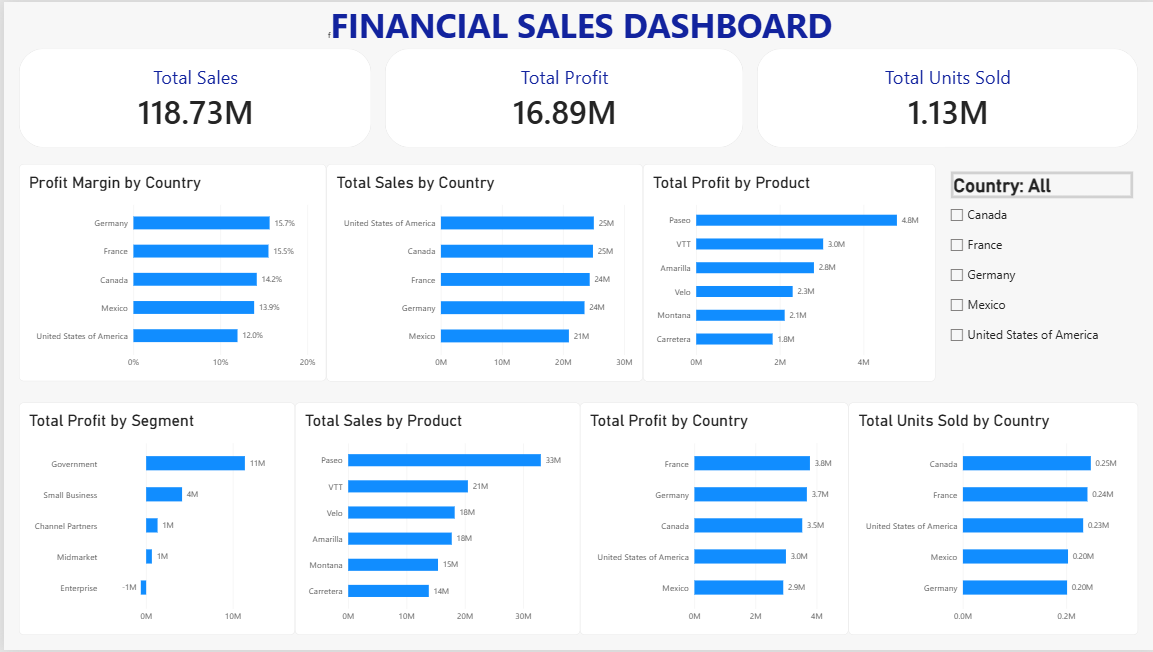

The page's visual inventory and layout, read from the dashboard file:
{"tool":"powerbi","page":{"name":"Page 1","canvas":[1920,1080],"ordinal":0},"visuals":[{"type":"clusteredBarChart","title":"Total Sales by Product","fields":{"Category":["financials.Product"],"Y":["Sum(financials.Sales)"]},"box":[485,667.5,475,387.5],"z":0},{"type":"slicer","fields":{"Values":["financials.Country"]},"box":[1570,282.5,320,337.5],"z":1000},{"type":"cardVisual","fields":{"Data":["financials.Total Profit"]},"box":[635,77.5,597.5,165],"z":2000},{"type":"cardVisual","fields":{"Data":["financials.Total Sales"]},"box":[25,77.5,587.5,165],"z":3000},{"type":"cardVisual","fields":{"Data":["financials.Total Units Sold"]},"box":[1255,77.5,635,165],"z":4000},{"type":"textbox","box":[0,0,1920,76.7],"z":5000},{"type":"clusteredBarChart","title":"Total Sales by Country","fields":{"Category":["financials.Country"],"Y":["financials.Total Sales"]},"box":[537.5,270,527.5,362.5],"z":6000},{"type":"clusteredBarChart","fields":{"Category":["financials.Segment"],"Y":["financials.Total Profit"]},"box":[25,667.5,460,387.5],"z":7000},{"type":"clusteredBarChart","fields":{"Category":["financials.Product"],"Y":["financials.Total Profit"]},"box":[1065,270,487.5,362.5],"z":8000},{"type":"clusteredBarChart","fields":{"Category":["financials.Country"],"Y":["financials.Total Profit"]},"box":[960,667.5,447.5,387.5],"z":9000},{"type":"clusteredBarChart","fields":{"Category":["financials.Country"],"Y":["financials.Total Units Sold"]},"box":[1407.5,667.5,482.5,387.5],"z":10000},{"type":"clusteredBarChart","title":"Profit Margin by Country","fields":{"Category":["financials.Country"],"Y":["financials.Profit Margin %"]},"box":[25,270,512,362],"z":11000}]}

Visuals, with their boxes in screenshot pixels (x1, y1, x2, y2), scaled from the page's 1920x1080 canvas onto the 1153x652 screenshot:
"Total Sales by Product" clusteredBarChart: locate(291, 403, 576, 637)
slicer - financials.Country: locate(943, 171, 1135, 374)
cardVisual - financials.Total Profit: locate(381, 47, 740, 146)
cardVisual - financials.Total Sales: locate(15, 47, 368, 146)
cardVisual - financials.Total Units Sold: locate(754, 47, 1135, 146)
textbox: locate(0, 0, 1152, 46)
"Total Sales by Country" clusteredBarChart: locate(323, 163, 640, 382)
clusteredBarChart - financials.Segment x financials.Total Profit: locate(15, 403, 291, 637)
clusteredBarChart - financials.Product x financials.Total Profit: locate(640, 163, 932, 382)
clusteredBarChart - financials.Country x financials.Total Profit: locate(576, 403, 845, 637)
clusteredBarChart - financials.Country x financials.Total Units Sold: locate(845, 403, 1135, 637)
"Profit Margin by Country" clusteredBarChart: locate(15, 163, 322, 382)
